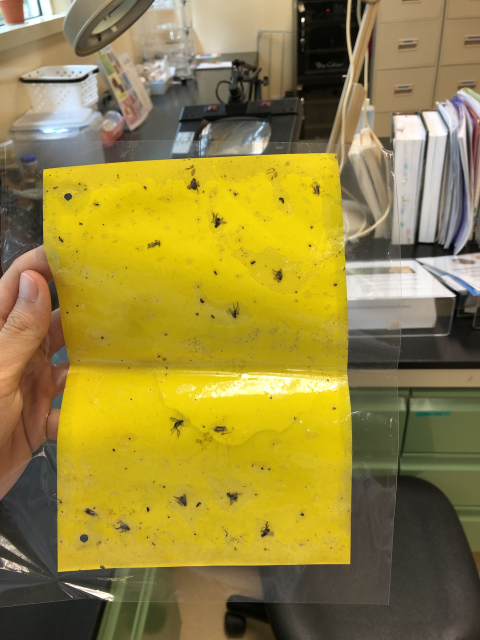DBM: (85, 508, 100, 519), (211, 426, 228, 434)
